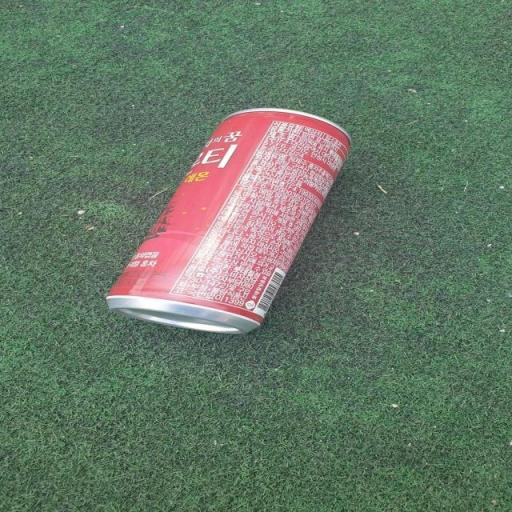metal: (74, 92, 392, 356)
